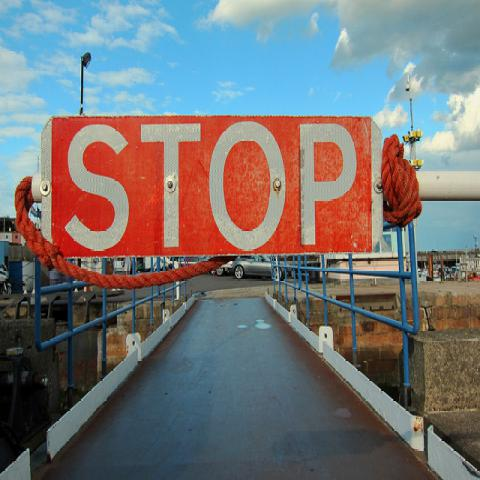car: (231, 254, 293, 280), (153, 257, 178, 270), (216, 261, 233, 277), (181, 257, 199, 267)
motorcycle: (0, 261, 12, 299)
